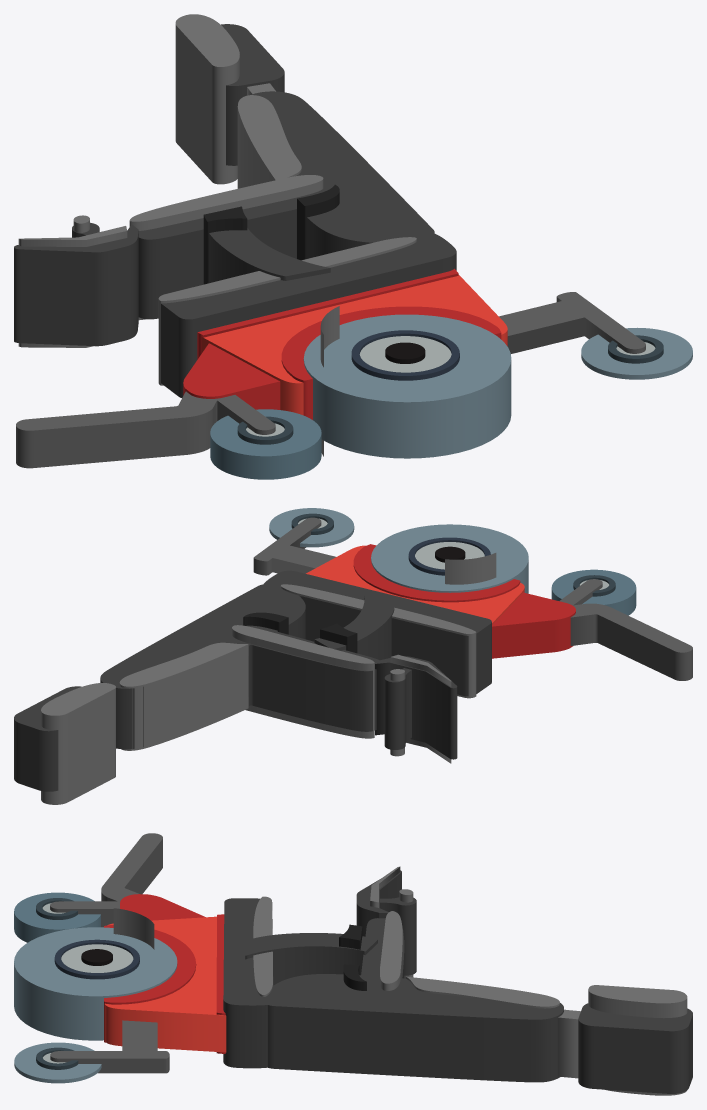
File: emoji_u1f9bc.glb
3 renders of one model, top to bottom at view 1: azimuth 30°, elevation 25°; view 2: azimuth 150°, elevation 25°; view 3: azimuth 270°, elevation 25°, orthographic. The views are drawn at different scales.
Parts seen in each view (by area): view 1: emoji_u1f9bc; view 2: emoji_u1f9bc; view 3: emoji_u1f9bc.
Part boxes in pixels (bbox=[...]): emoji_u1f9bc: bbox=[14, 14, 692, 479]; emoji_u1f9bc: bbox=[14, 508, 692, 804]; emoji_u1f9bc: bbox=[14, 833, 692, 1095].
Bounding box in the file's own units: 0.0271 × 0.0052 × 0.0333.
